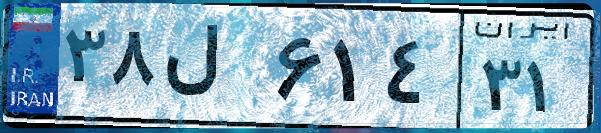1: (330, 28, 385, 110), (525, 38, 570, 115)
3: (57, 26, 110, 100), (475, 38, 525, 113)
4: (385, 28, 445, 110)
6: (270, 28, 330, 110)
8: (110, 28, 158, 98)
ل: (158, 20, 270, 120)
